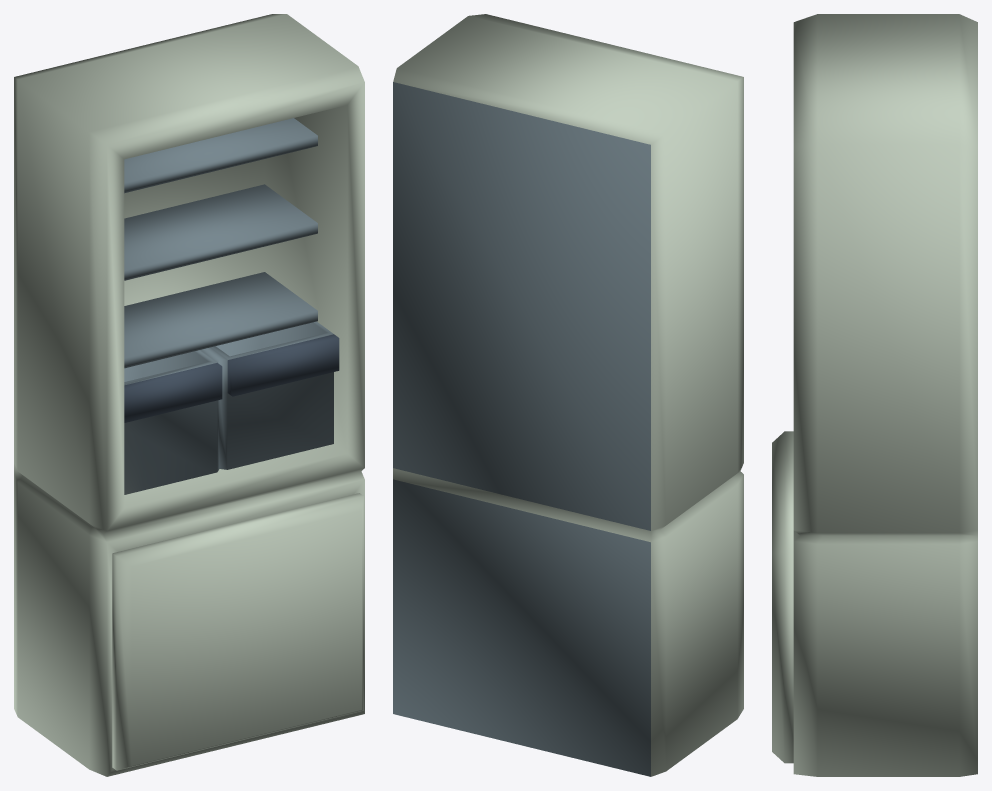
Rendered from Fridge_kitchen_V1.fbx.
The picture shows the model from 3 angles, left to right: view 1: azimuth 30°, elevation 25°; view 2: azimuth 150°, elevation 25°; view 3: azimuth 270°, elevation 25°; orthographic projection.
Parts seen in each view (by area): view 1: Cube, Cube.001, Cube.004, Cube.003; view 2: Cube; view 3: Cube, Cube.001.
Boxes of the visible parts, x1,y1,x2,y2 form: Cube: (14,14,364,776); Cube.001: (112,493,363,770); Cube.004: (124,118,317,368); Cube.003: (124,321,339,494); Cube: (393,14,743,776); Cube: (793,14,977,776); Cube.001: (772,431,793,763).
Bounding box in the file's own units: 82.24 × 186 × 54.88.
